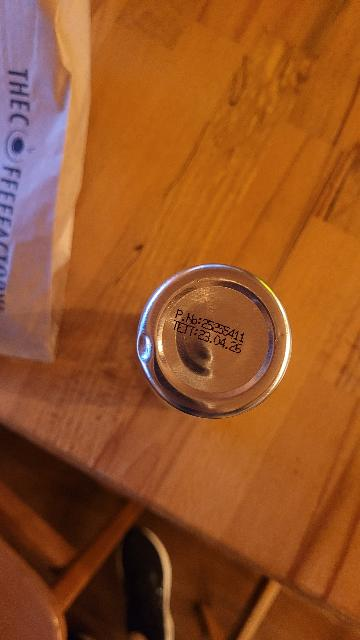Metal: (134, 252, 299, 418)
